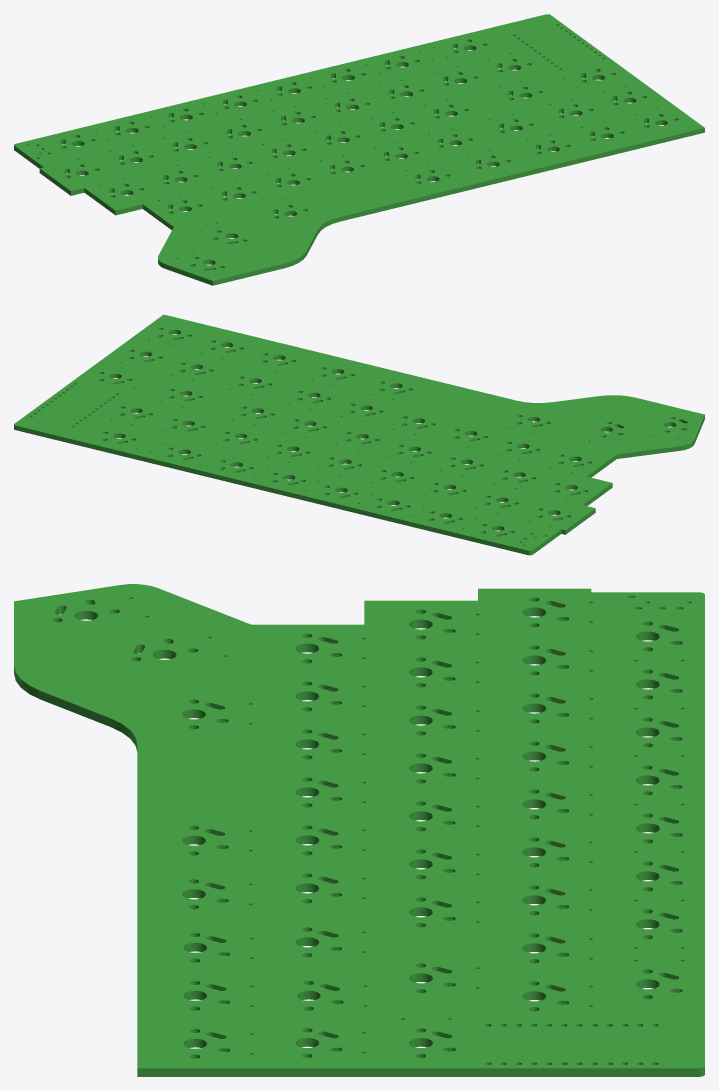
File: r_pcb.gltf
The picture shows the model from 3 angles, top to bottom: view 1: azimuth 30°, elevation 25°; view 2: azimuth 150°, elevation 25°; view 3: azimuth 270°, elevation 25°; orthographic projection. The views are drawn at different scales.
Parts seen in each view (by area): view 1: right 1; view 2: right 1; view 3: right 1.
Boxes of the visible parts, x1,y1,x2,y2 form: right 1: (14, 14, 704, 285); right 1: (14, 314, 704, 555); right 1: (14, 584, 704, 1076).
Size of the model in its own units: 0.1918 by 0.0016 by 0.1157.
